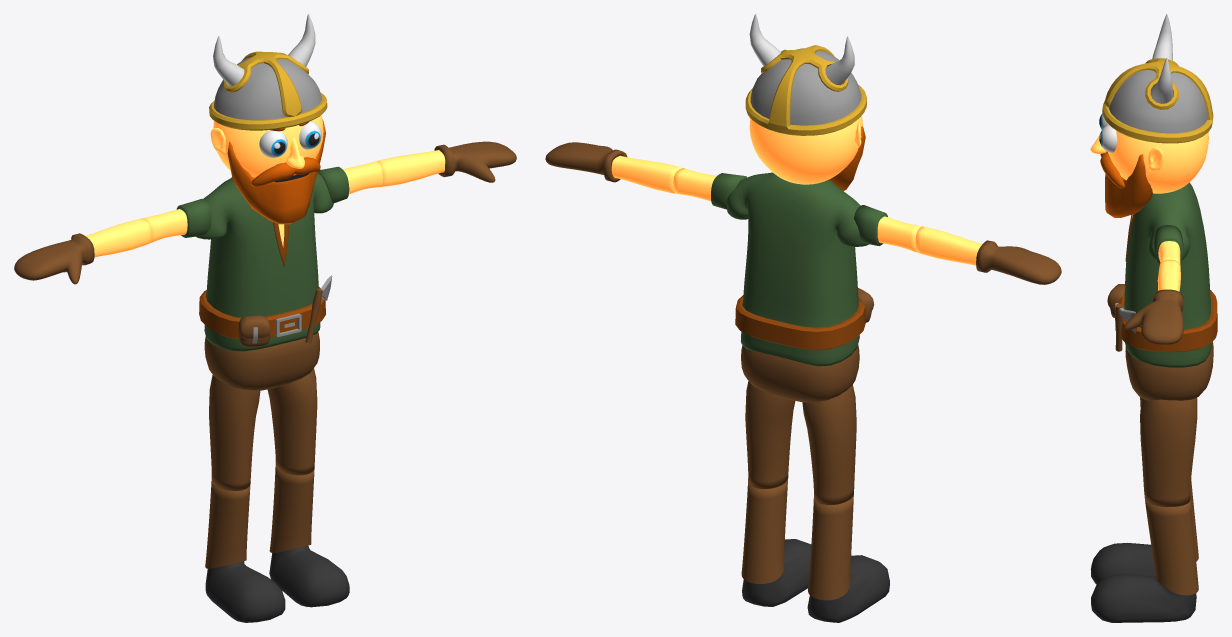
3 renders of one model, left to right at view 1: azimuth 30°, elevation 25°; view 2: azimuth 150°, elevation 25°; view 3: azimuth 270°, elevation 25°, orthographic. The views are drawn at different scales.
Parts seen in each view (by area): view 1: Viking_body, Viking_head, Viking_helmet, Viking_r_upper_leg, Viking_pelvis, Viking_l_upper_leg, Viking_r_foot, Viking_l_foot, Viking_r_leg, Viking_l_leg, Viking_r_hand, Viking_l_hand (+4 smaller); view 2: Viking_body, Viking_helmet, Viking_head, Viking_r_upper_leg, Viking_pelvis, Viking_l_upper_leg, Viking_r_leg, Viking_l_leg, Viking_r_foot, Viking_l_foot, Viking_r_hand, Viking_r_arm (+4 smaller); view 3: Viking_body, Viking_helmet, Viking_head, Viking_l_upper_leg, Viking_l_foot, Viking_l_leg, Viking_pelvis, Viking_l_hand, Viking_r_foot, Viking_l_arm, Viking_l_forearm, Viking_r_leg.
Part boxes in pixels (x1=…): Viking_body: x1=196, y1=173, x2=333, y2=351; Viking_head: x1=210, y1=115, x2=325, y2=224; Viking_helmet: x1=209, y1=14, x2=327, y2=130; Viking_r_upper_leg: x1=209, y1=375, x2=260, y2=490; Viking_pelvis: x1=204, y1=332, x2=319, y2=390; Viking_l_upper_leg: x1=267, y1=368, x2=317, y2=475; Viking_r_foot: x1=205, y1=561, x2=285, y2=622; Viking_l_foot: x1=269, y1=545, x2=349, y2=607; Viking_r_leg: x1=205, y1=481, x2=250, y2=568; Viking_l_leg: x1=269, y1=466, x2=314, y2=552; Viking_r_hand: x1=14, y1=233, x2=94, y2=284; Viking_l_hand: x1=434, y1=141, x2=516, y2=182; Viking_body: x1=726, y1=172, x2=874, y2=366; Viking_helmet: x1=745, y1=14, x2=866, y2=135; Viking_head: x1=749, y1=116, x2=865, y2=190; Viking_r_upper_leg: x1=802, y1=384, x2=856, y2=504; Viking_pelvis: x1=741, y1=344, x2=859, y2=402; Viking_l_upper_leg: x1=745, y1=381, x2=795, y2=488; Viking_r_leg: x1=808, y1=495, x2=853, y2=600; Viking_l_leg: x1=741, y1=479, x2=787, y2=583; Viking_r_foot: x1=807, y1=555, x2=889, y2=622; Viking_l_foot: x1=742, y1=539, x2=811, y2=606; Viking_r_hand: x1=976, y1=240, x2=1061, y2=284; Viking_r_arm: x1=854, y1=205, x2=921, y2=252; Viking_body: x1=1107, y1=182, x2=1217, y2=367; Viking_helmet: x1=1102, y1=14, x2=1213, y2=143; Viking_head: x1=1090, y1=113, x2=1208, y2=217; Viking_l_upper_leg: x1=1140, y1=398, x2=1197, y2=507; Viking_l_foot: x1=1091, y1=574, x2=1196, y2=622; Viking_l_leg: x1=1145, y1=500, x2=1198, y2=595; Viking_pelvis: x1=1125, y1=342, x2=1213, y2=400; Viking_l_hand: x1=1124, y1=289, x2=1183, y2=344; Viking_r_foot: x1=1090, y1=543, x2=1155, y2=584; Viking_l_arm: x1=1152, y1=225, x2=1183, y2=266; Viking_l_forearm: x1=1157, y1=259, x2=1180, y2=291; Viking_r_leg: x1=1190, y1=479, x2=1198, y2=561.
Size of the model in its own units: 3.19 by 3.48 by 0.7143.
11 materials, 2 textured.
